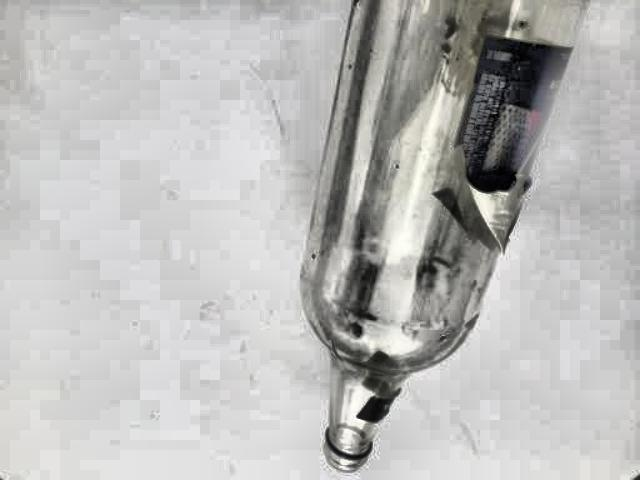Bottles: (279, 0, 581, 480)
